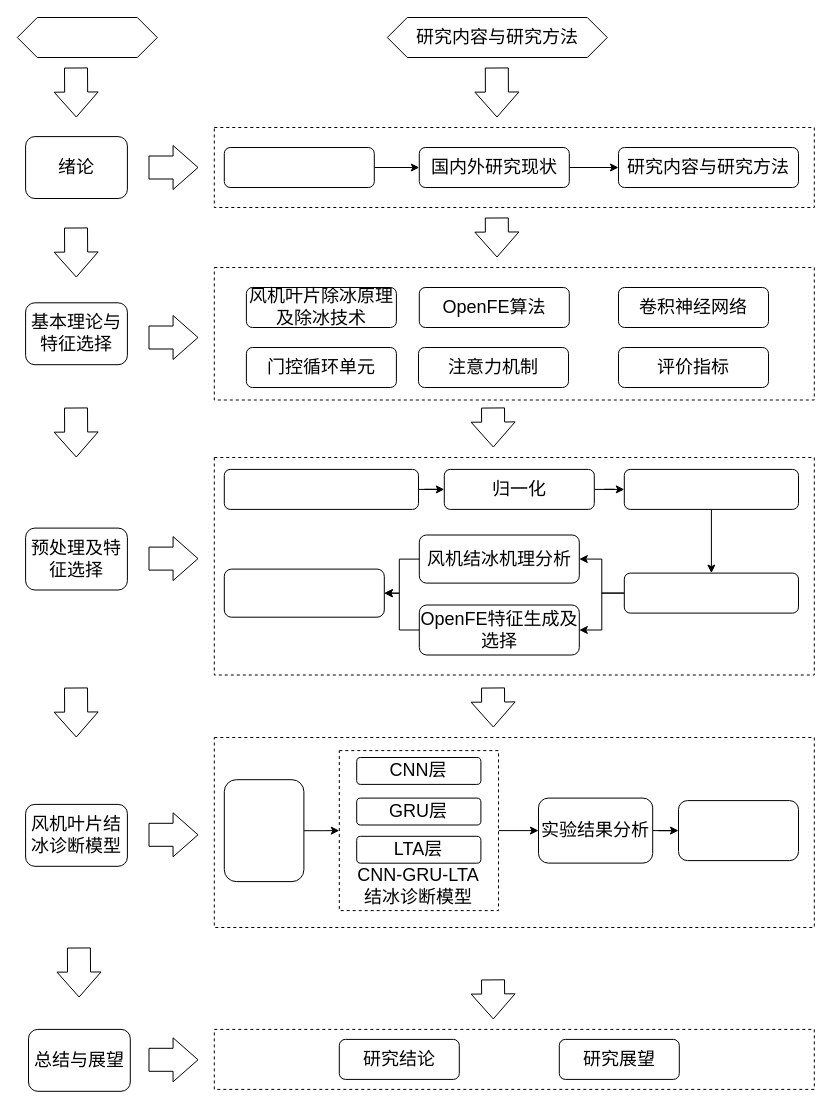
Image size: 832x1109. Some labels were removed from this diagram. The shapes that lost their labels are listed below. From the top down, each one's centre as x and y in pixels, then its label:
(86,37): 研究目标
(298,167): 研究背景与意义
(320,488): 风机叶片结冰样本选取
(710,488): 结冰特征重要性分析
(303,592): 融合的特征
(710,592): 结冰特征相关性分析
(263,830): GAN数据均衡化
(738,830): A公司风机叶片维护建议
